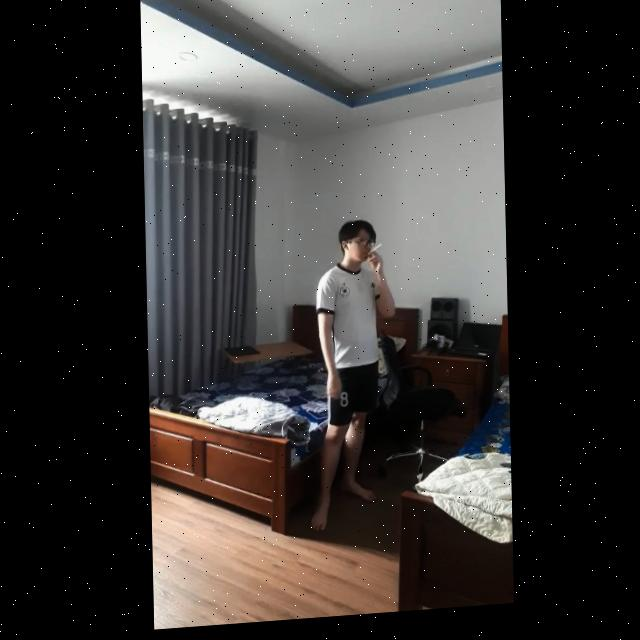cigarette: (367, 251, 380, 260)
